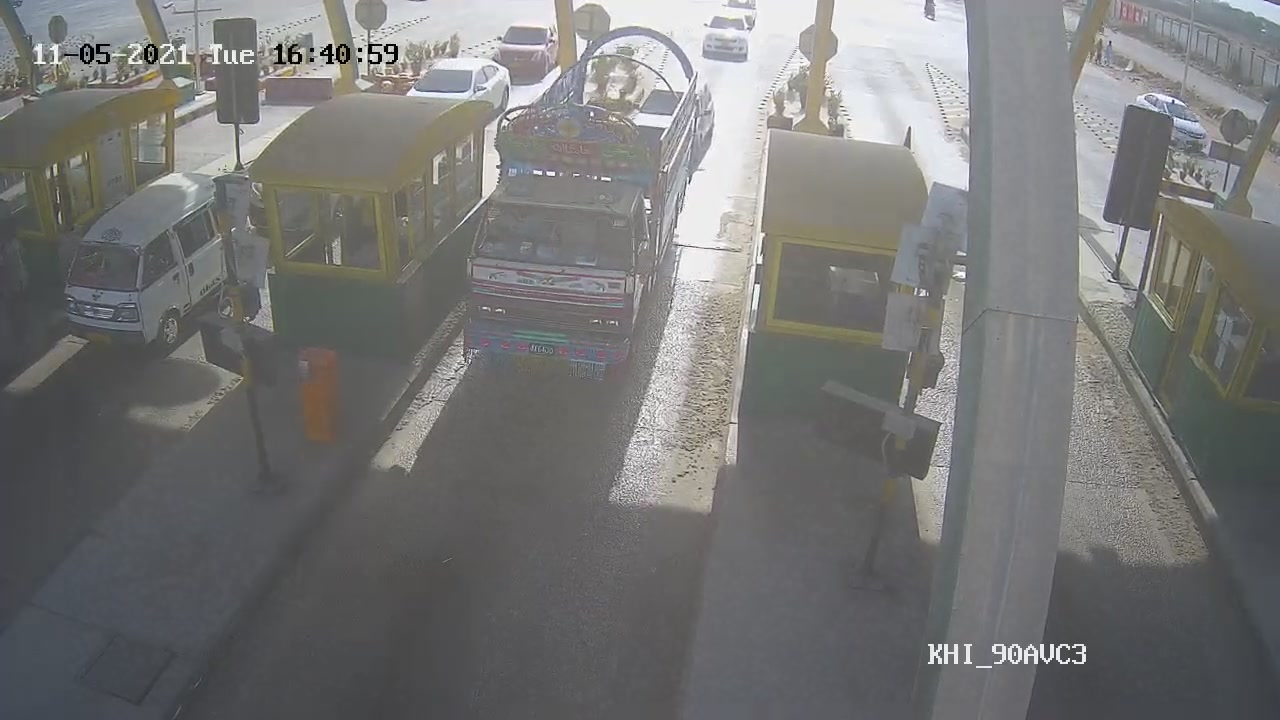F5: (452, 22, 708, 384)
